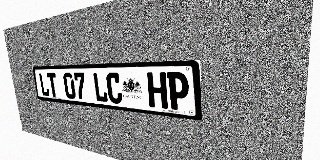0: (62, 73, 76, 99)
7: (73, 73, 87, 100)
C: (106, 72, 123, 104)
H: (147, 72, 168, 109)
L: (92, 72, 108, 103), (38, 73, 50, 97)
P: (167, 72, 190, 111)
T: (46, 73, 59, 97)
